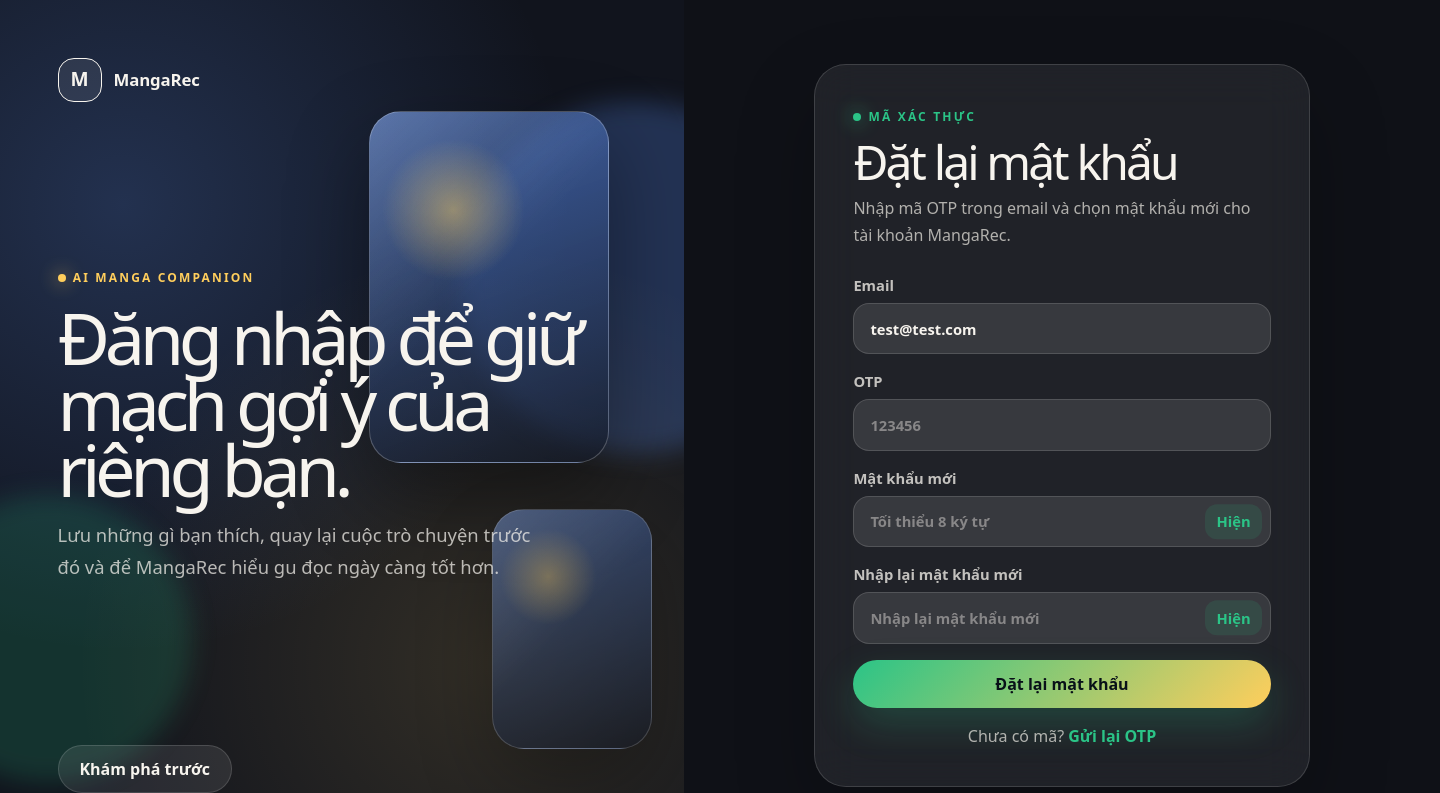
Scenario: ResetPassword › handles invalid otp
The width and height of the screenshot is (1440, 793).
In the field labelled "OTP": (1062, 425) [853,400,1271,451], type "123"
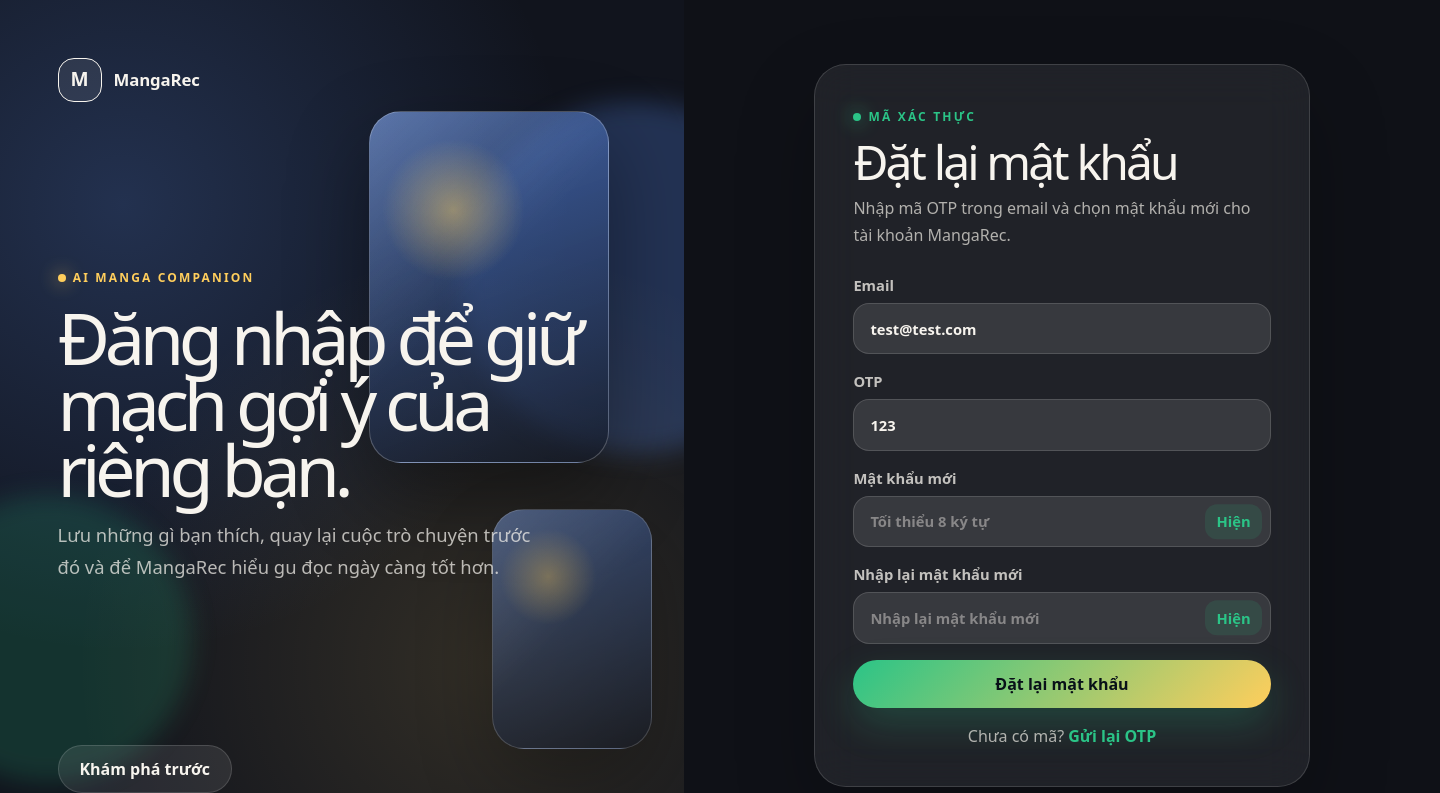
Submit the form "Đặt lại mật khẩu", box [853,274,1271,708]
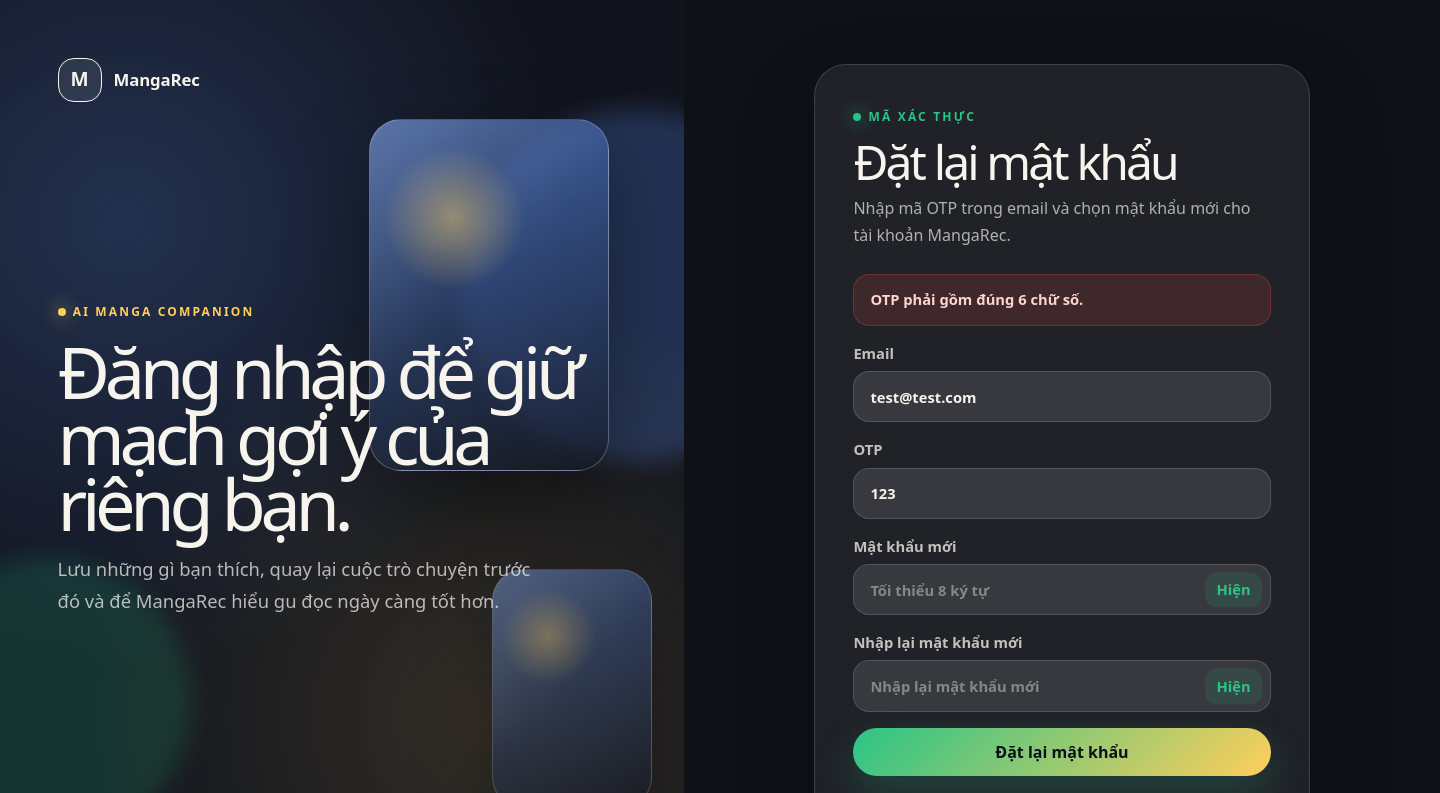
Expected: the text "OTP phải gồm đúng 6 chữ số." is shown, [853,274,1271,326]
